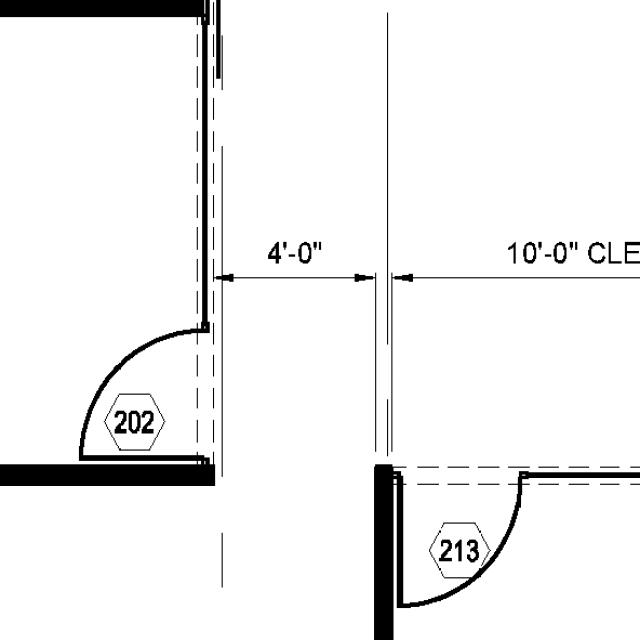Doors: (76, 325, 228, 468), (397, 459, 526, 614)
